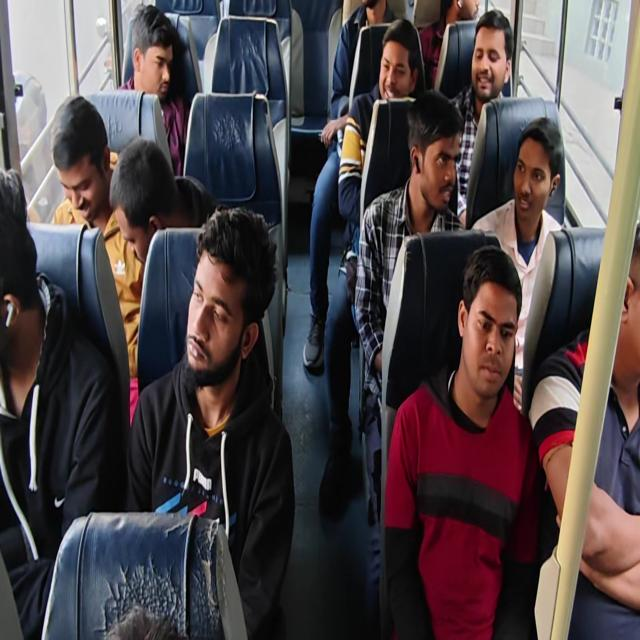person: (1, 1, 638, 638), (125, 203, 296, 638), (382, 244, 543, 638), (354, 89, 466, 636), (0, 166, 120, 637), (318, 16, 425, 518), (528, 220, 640, 638), (302, 0, 397, 372), (49, 94, 144, 427), (108, 136, 214, 426), (470, 116, 564, 413), (337, 18, 424, 246), (447, 8, 514, 225), (116, 3, 188, 176), (419, 0, 480, 90)
